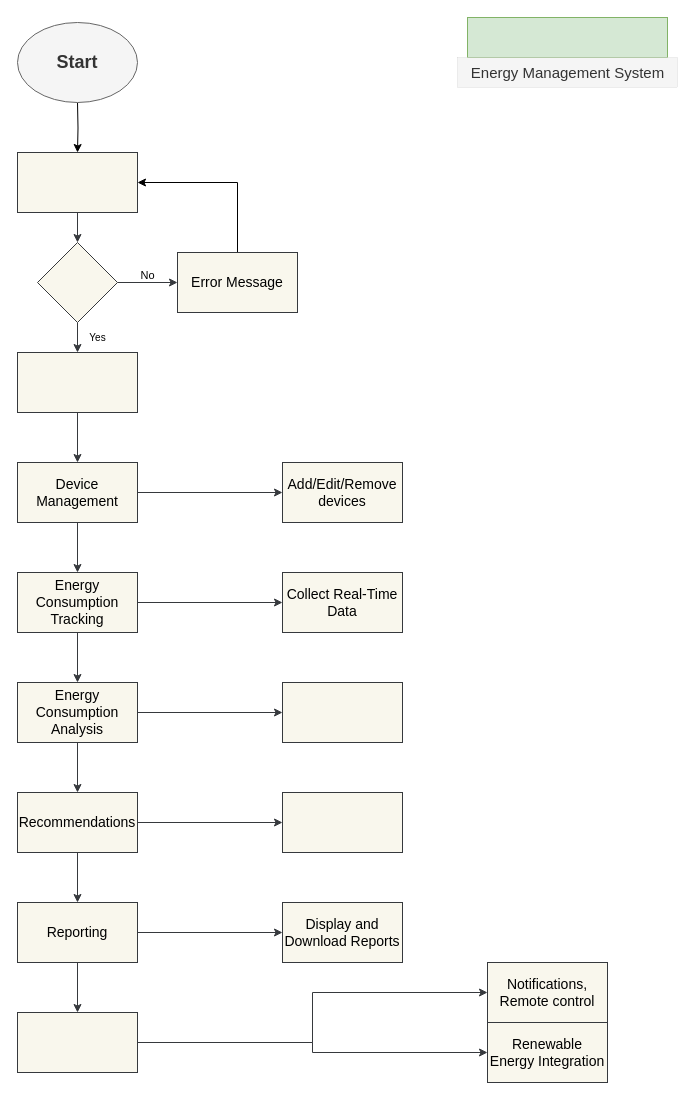
Some shapes in this 695 by 1100 pixel diagram are drawn without their labels. Here are the shapes that lost their labels. From the top down, the box of each, then its label:
(466, 16, 668, 58): Date Base Schema
(16, 152, 138, 212): User Registration/Login
(36, 242, 118, 322): Success
(16, 352, 138, 412): Dashboard
(282, 682, 402, 742): Calculate Consumption Trends
(282, 792, 402, 852): Generate Energy-Saving Tips
(16, 1012, 138, 1072): Advanced Features
